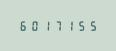five: (72, 20, 82, 31), (83, 20, 93, 31)
one: (39, 20, 49, 31), (61, 20, 71, 31)
seven: (50, 20, 60, 31)
six: (17, 20, 27, 31)
zero: (28, 20, 38, 31)
